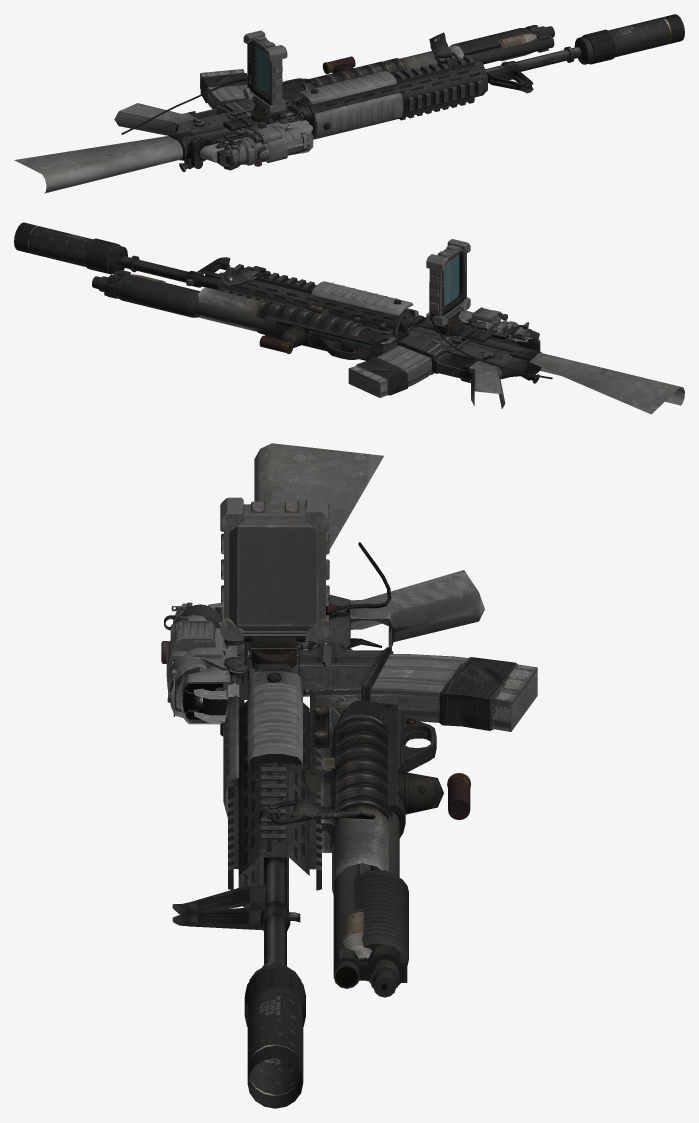
File: viewmodel_m16_desert_LOD0.obj
3 views of the same model, one above another, from view 1: azimuth 30°, elevation 25°; view 2: azimuth 150°, elevation 25°; view 3: azimuth 270°, elevation 25° (orthographic). The views are drawn at different scales.
Visible parts, largest first — view 1: mtl_weapon_m16_desert, mtl_weapon_motion_tracker_desert, mtl_weapon_suppressor_b, mtl_weapon_shotgun_masterkey, mtl_weapon_m203, mtl_weapon_m16_iron_sight, mtl_weapon_acog_2_desert, mtl_weapon_thermal_sight_2_desert, mtl_motion_tracker_screen, mtl_weapon_eotech_2_desert; view 2: mtl_weapon_m16_desert, mtl_weapon_shotgun_masterkey, mtl_weapon_motion_tracker_desert, mtl_weapon_m203, mtl_weapon_suppressor_b, mtl_weapon_m16_iron_sight, mtl_weapon_thermal_sight_2_desert, mtl_motion_tracker_screen, mtl_weapon_m4_foregrip, mtl_weapon_acog_2_desert; view 3: mtl_weapon_m16_desert, mtl_weapon_motion_tracker_desert, mtl_weapon_shotgun_masterkey, mtl_weapon_m203, mtl_weapon_suppressor_b, mtl_weapon_m16_iron_sight, mtl_weapon_thermal_sight_2_desert, mtl_weapon_m4_foregrip, mtl_weapon_acog_2_desert, mtl_weapon_red_dot_sight_desert.
Boxes of the visible parts, x1,y1,x2,y2 form: mtl_weapon_m16_desert: (14,32,581,193); mtl_weapon_motion_tracker_desert: (121,30,302,134); mtl_weapon_suppressor_b: (574,14,684,64); mtl_weapon_shotgun_masterkey: (282,25,554,99); mtl_weapon_m203: (282,33,536,106); mtl_weapon_m16_iron_sight: (199,65,533,169); mtl_weapon_acog_2_desert: (224,118,310,167); mtl_weapon_thermal_sight_2_desert: (228,121,313,170); mtl_motion_tracker_screen: (255,45,270,96); mtl_weapon_eotech_2_desert: (246,122,289,162); mtl_weapon_m16_desert: (121,255,684,414); mtl_weapon_shotgun_masterkey: (92,270,388,360); mtl_weapon_motion_tracker_desert: (410,239,552,379); mtl_weapon_m203: (126,274,396,355); mtl_weapon_suppressor_b: (14,222,127,274); mtl_weapon_m16_iron_sight: (197,257,539,342); mtl_weapon_thermal_sight_2_desert: (461,307,523,338); mtl_motion_tracker_screen: (444,254,459,306); mtl_weapon_m4_foregrip: (278,308,330,347); mtl_weapon_acog_2_desert: (459,310,532,335); mtl_weapon_m16_desert: (220,443,537,967); mtl_weapon_motion_tracker_desert: (220,497,391,673); mtl_weapon_shotgun_masterkey: (316,700,470,997); mtl_weapon_m203: (313,701,392,959); mtl_weapon_suppressor_b: (244,964,305,1108); mtl_weapon_m16_iron_sight: (164,603,265,930); mtl_weapon_thermal_sight_2_desert: (169,604,242,716); mtl_weapon_m4_foregrip: (305,769,443,814); mtl_weapon_acog_2_desert: (161,602,244,718); mtl_weapon_red_dot_sight_desert: (180,639,247,724).
Bounding box in the file's own units: 109 × 18 × 27.92.
